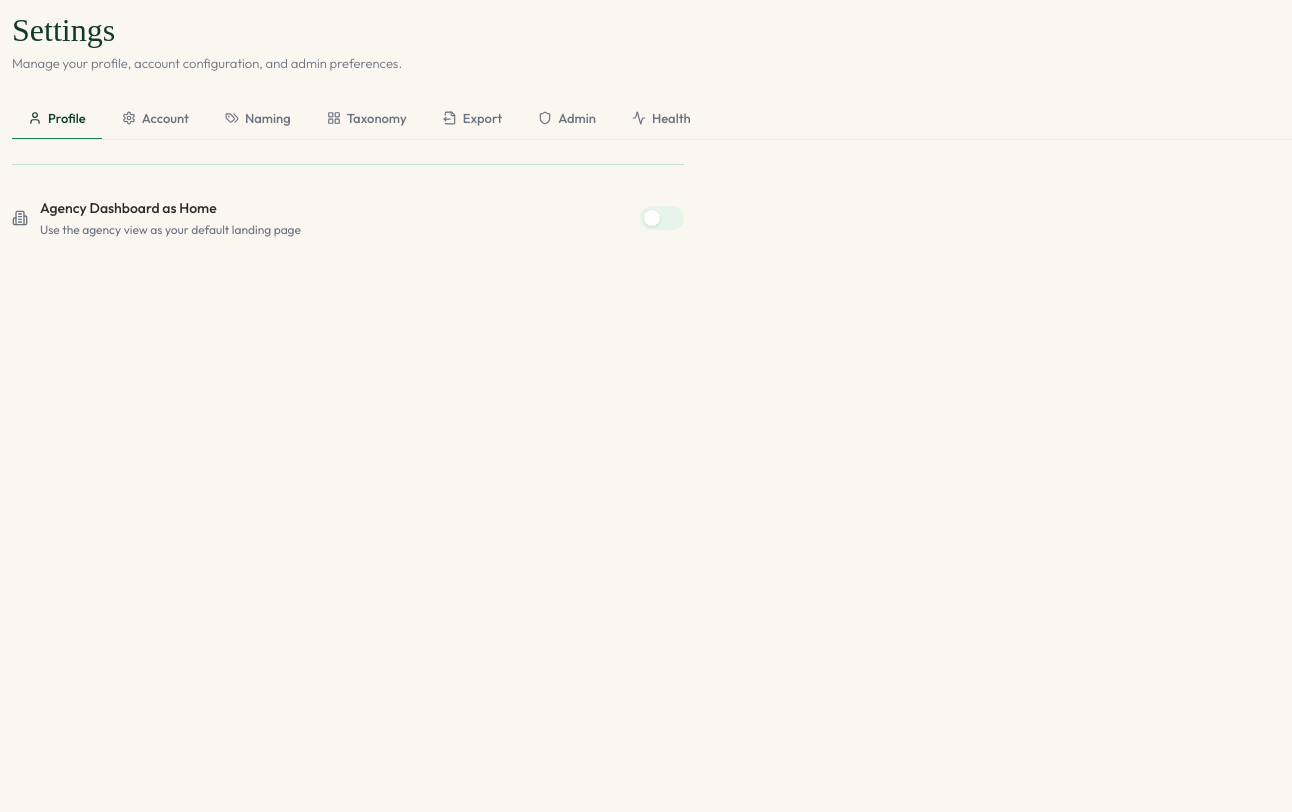
Test: US-003: builder-only gate — non-builder access is denied (e2e 2) › shows the Taxonomy tab and surface for a builder
This screenshot has width=1292, height=812.
Step 1. Click the button "Taxonomy" → (367, 119), box top-left (311, 98), bottom-right (423, 140)
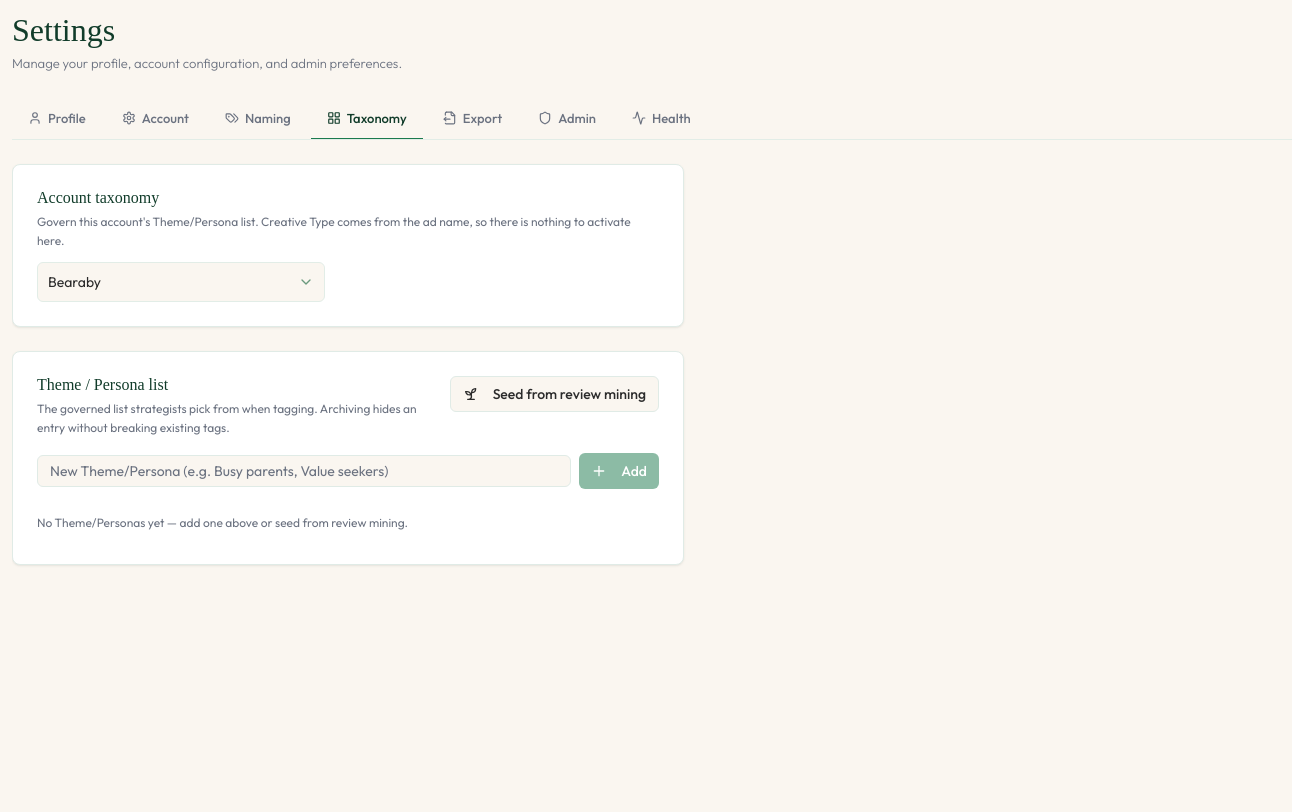
Now the heading "Account taxonomy" is shown, box top-left (37, 189), bottom-right (159, 206)
